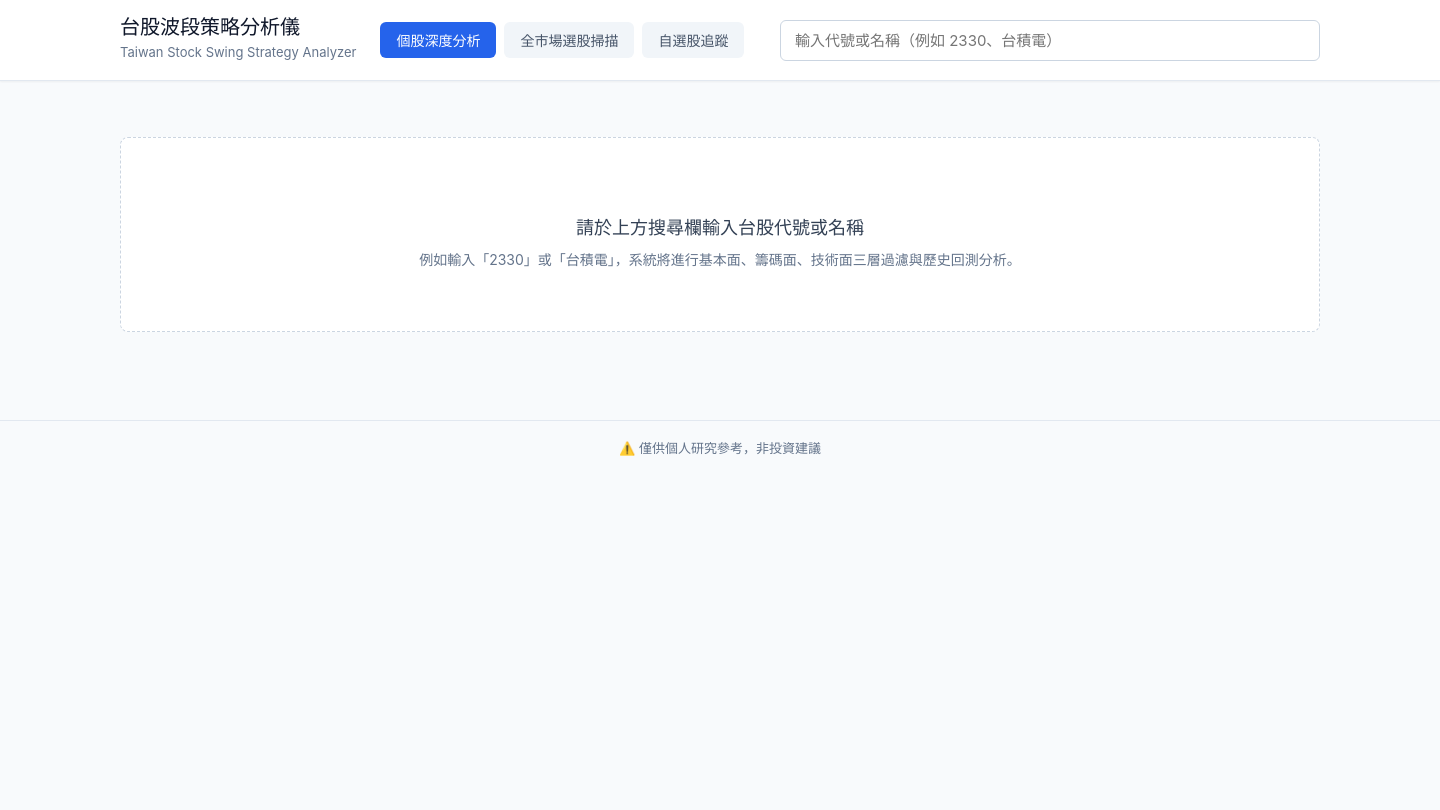
Test: App Component Integration › switches between single stock tab and market scanner tab with keep-alive state
The width and height of the screenshot is (1440, 810).
Expected: the element with test id "single-stock-view" is shown, x1=120 y1=137 x2=1320 y2=332
Switch to watchlist tab
Click the button with test id "tab-watchlist" at coordinates (693, 40), box x1=642 y1=22 x2=744 y2=58
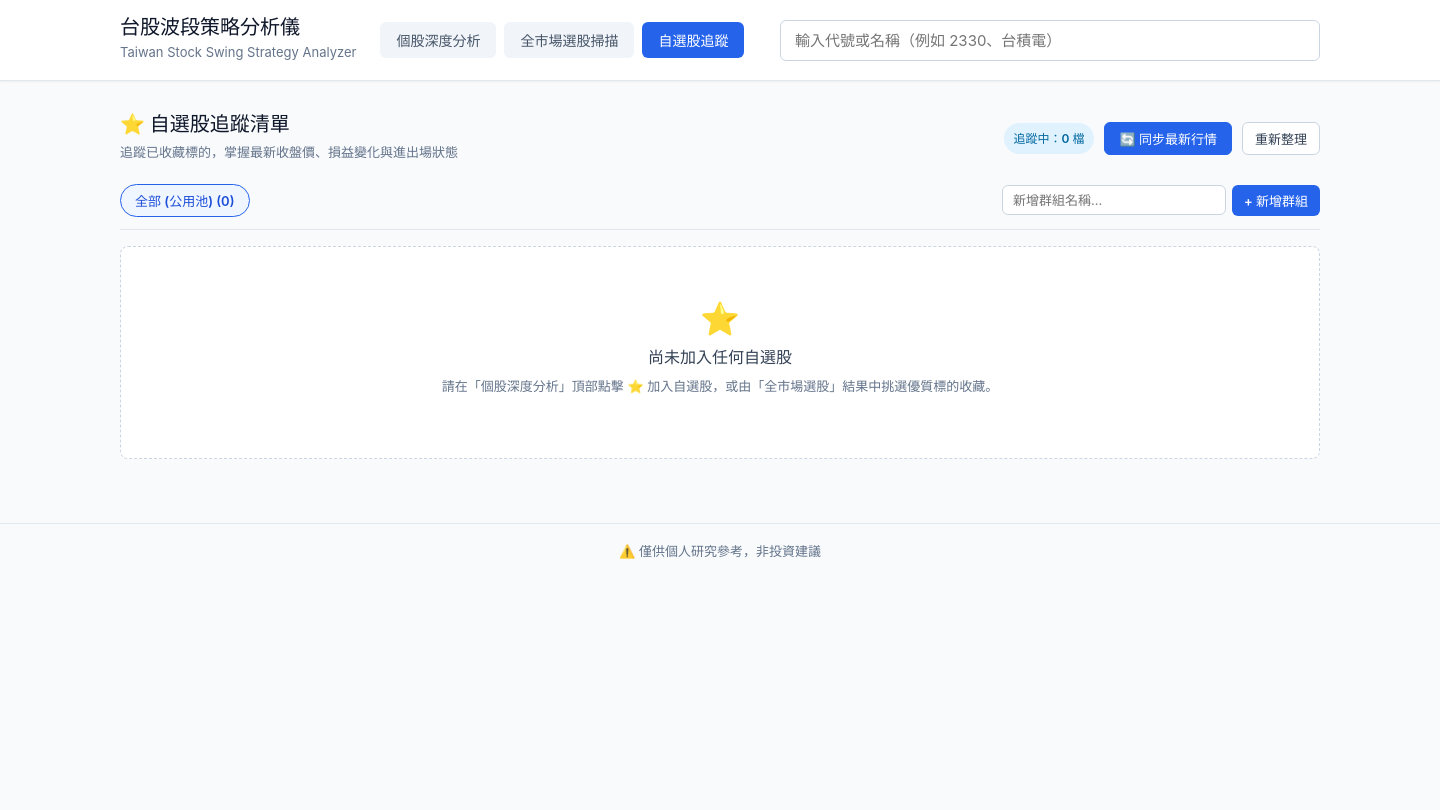
Result: the element with test id "single-stock-view" is gone
Result: the element with test id "watchlist-view" is shown at x1=120 y1=105 x2=1320 y2=467
Result: the element with test id "watchlist-empty" is shown at x1=120 y1=246 x2=1320 y2=459
Switch to scanner tab
Click the button with test id "tab-scanner" at coordinates (569, 40), box x1=504 y1=22 x2=634 y2=58
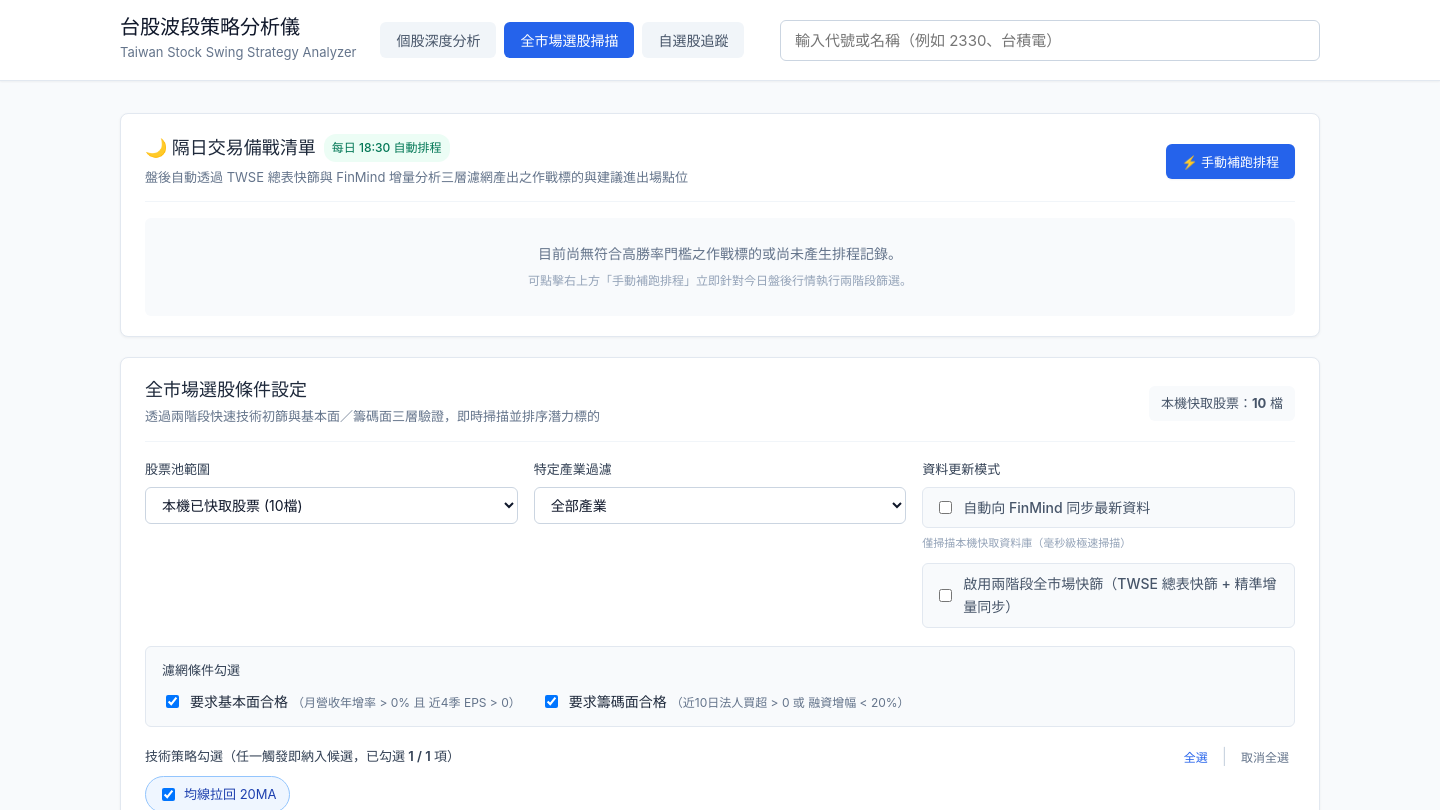
Result: the heading "全市場選股條件設定" is shown at x1=145 y1=379 x2=307 y2=400
Switch back to single stock tab
Click the button with test id "tab-single" at coordinates (438, 40), box x1=380 y1=22 x2=496 y2=58
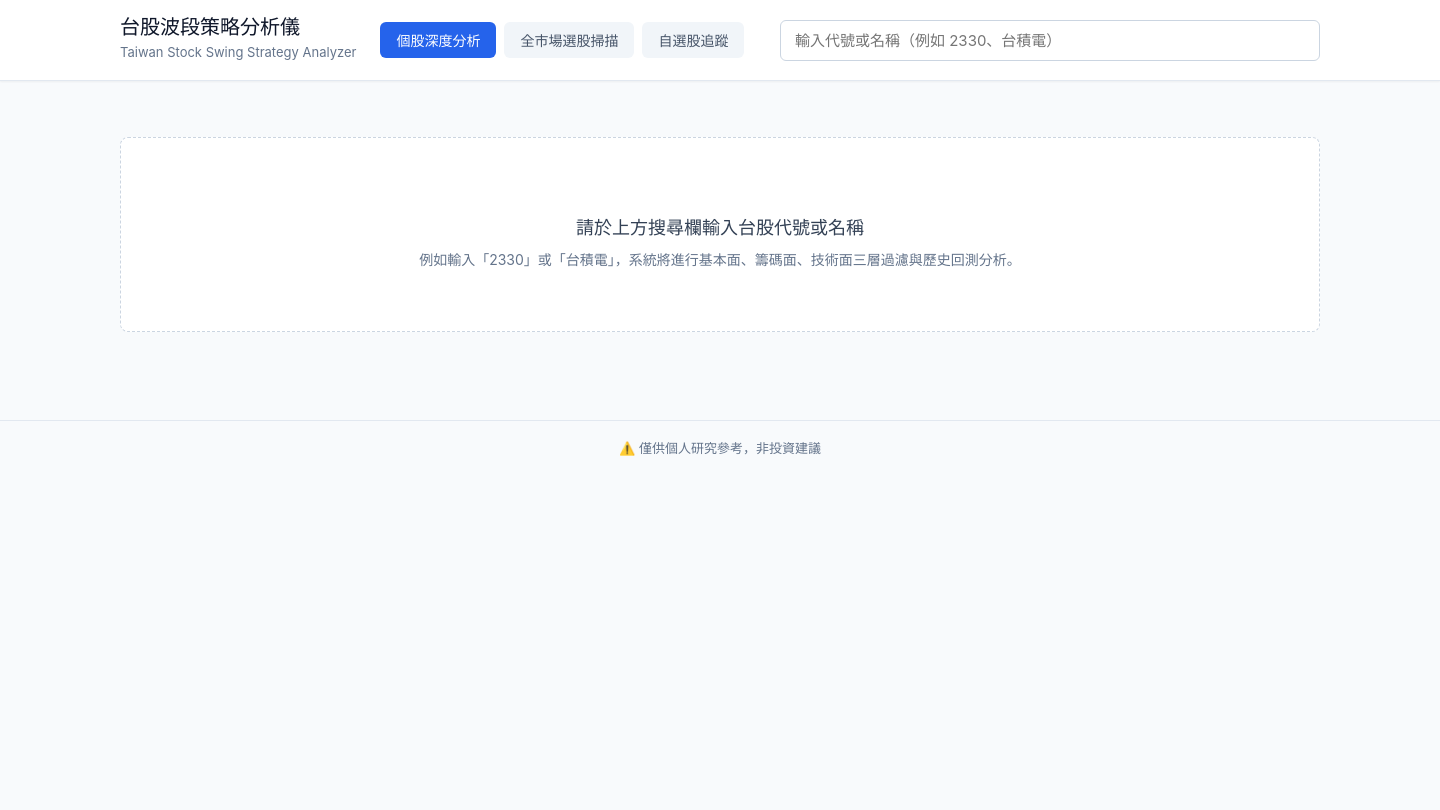
Result: the element with test id "single-stock-view" is shown at x1=120 y1=137 x2=1320 y2=332
Switch to watchlist tab
Click the button with test id "tab-watchlist" at coordinates (693, 40), box x1=642 y1=22 x2=744 y2=58
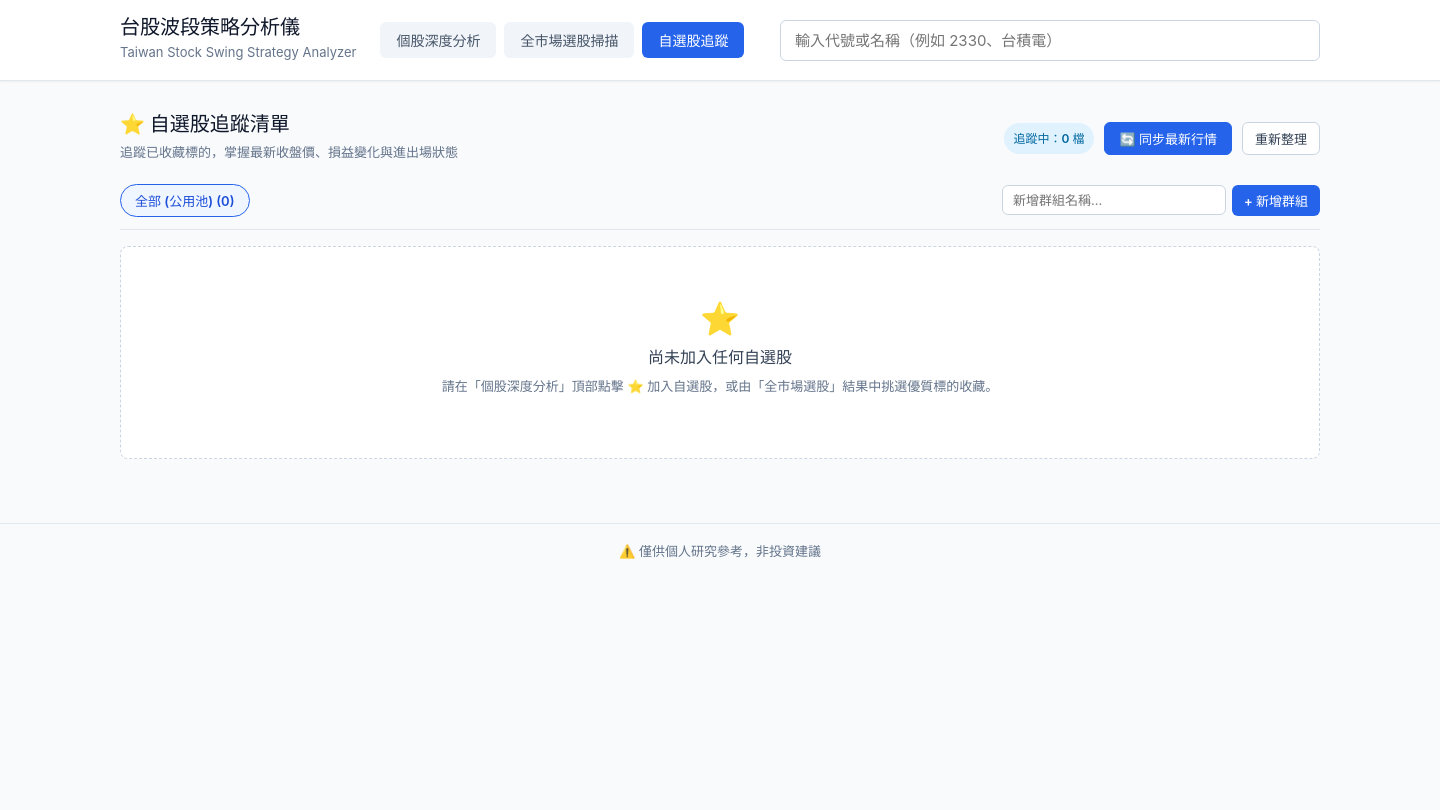
Result: the element with test id "single-stock-view" is gone
Result: the element with test id "watchlist-view" is shown at x1=120 y1=105 x2=1320 y2=467
Result: the element with test id "watchlist-empty" is shown at x1=120 y1=246 x2=1320 y2=459
